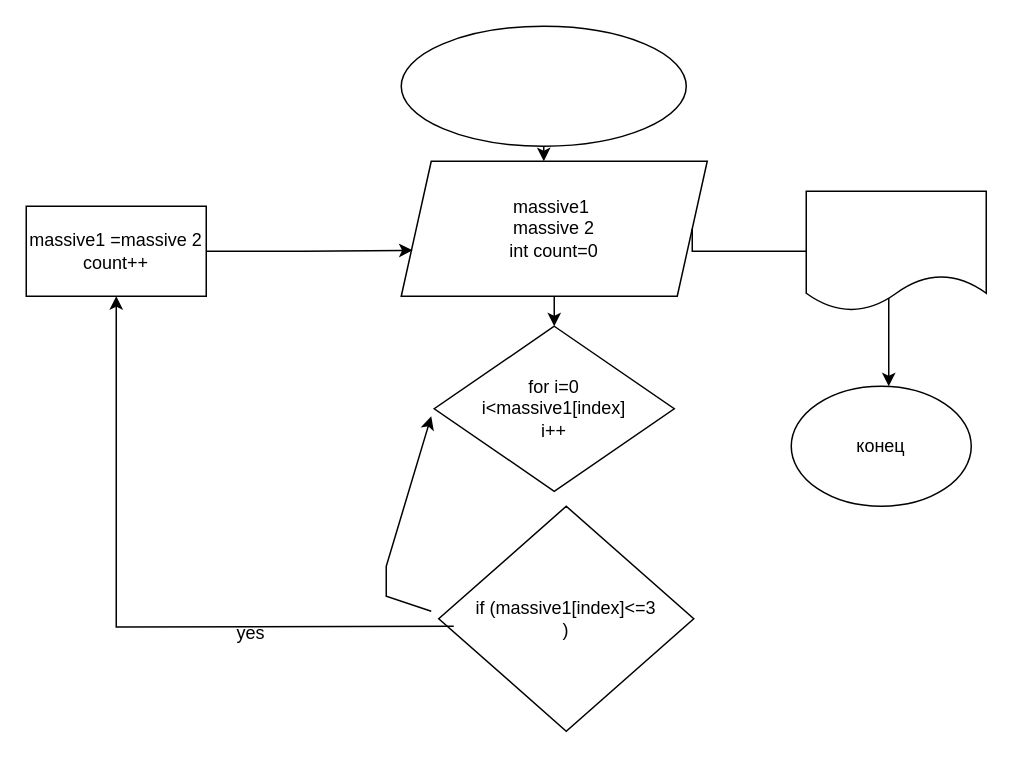
Image size: 1013x758. Some labels were removed from this diagram. The shapes that lost their labels are listed below. From the top down, each one's box as (x1, y1, x2, y2) in pixels, then its label:
(400, 25, 686, 146): Начало
(805, 190, 986, 311): вывод massive2
